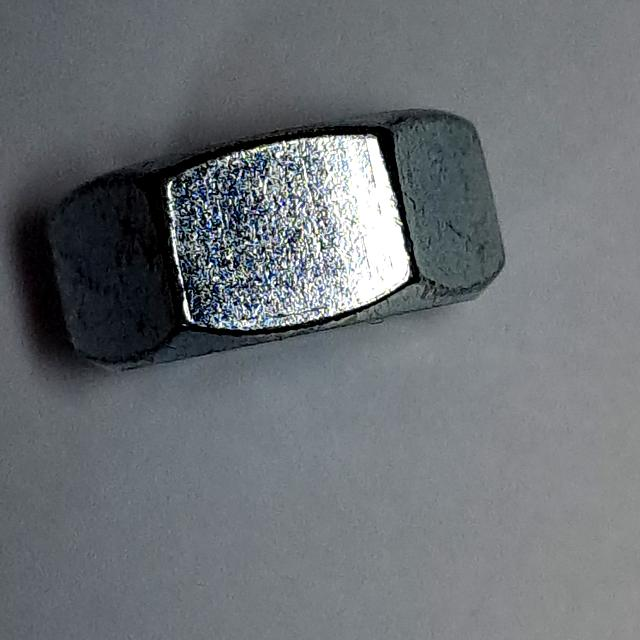Side_Excellent: (34, 96, 517, 394)
